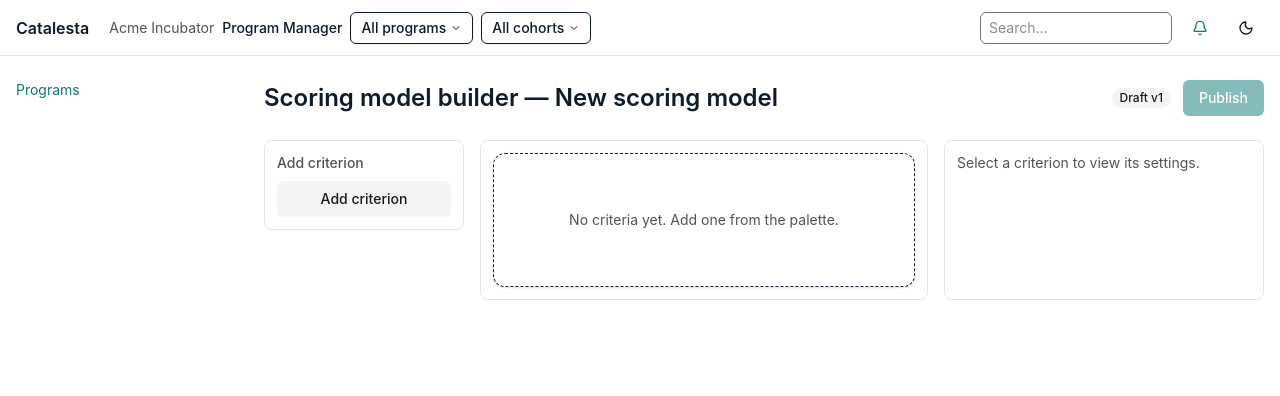
adds a criterion from the palette and shows it on the canvas
Expected: the element showing "No criteria yet. Add one from the palette." is shown, [480,140,928,300]
Click the button "Add criterion": click(364, 199) [277,181,451,217]
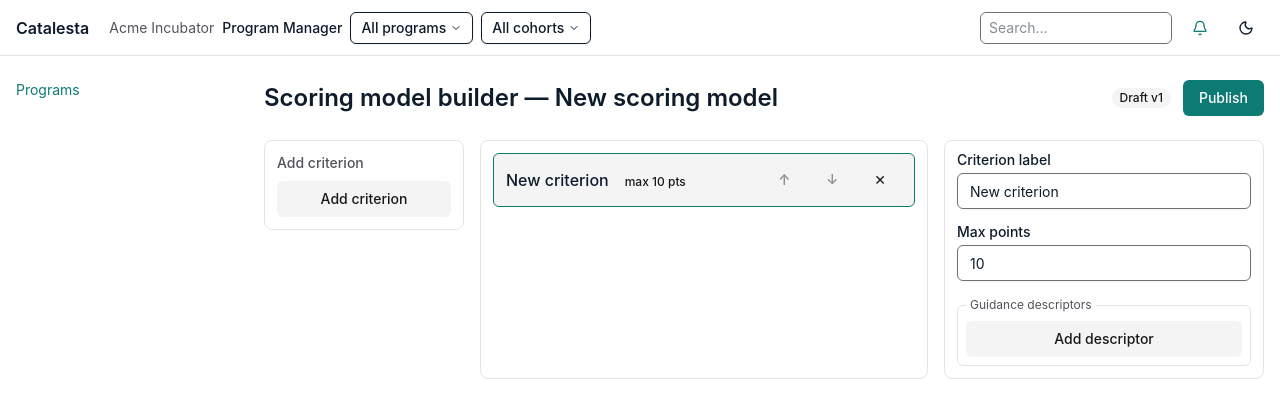
Expected: the list item shows "New criterion", [506,168,694,192]
